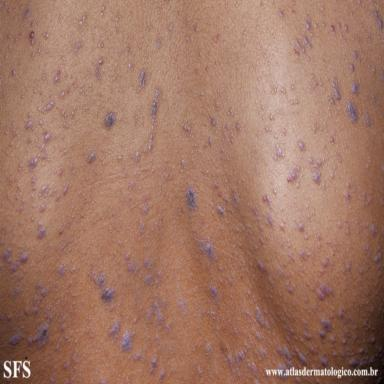lichen: (28, 304, 53, 348), (29, 133, 50, 170), (149, 88, 161, 150), (11, 252, 29, 272), (199, 240, 216, 260), (256, 307, 270, 329), (9, 326, 25, 345), (287, 165, 300, 188), (277, 347, 292, 366), (317, 283, 333, 300), (253, 206, 263, 232), (186, 187, 197, 210), (154, 295, 163, 323), (121, 332, 134, 351), (347, 102, 358, 123), (91, 271, 105, 287), (39, 185, 57, 197), (247, 359, 258, 378), (313, 160, 322, 183), (361, 191, 373, 208), (332, 78, 341, 100), (101, 288, 114, 303), (109, 321, 120, 338), (284, 325, 295, 342), (295, 349, 307, 364), (210, 286, 221, 302), (33, 296, 42, 315), (303, 321, 312, 340), (374, 10, 383, 29), (235, 351, 245, 368), (95, 59, 103, 80), (312, 121, 327, 132), (105, 113, 115, 128), (295, 38, 305, 53), (37, 223, 46, 239), (178, 298, 187, 314), (23, 2, 31, 19), (275, 144, 283, 160), (322, 318, 331, 332), (3, 247, 11, 262), (310, 74, 318, 89), (43, 101, 54, 111), (150, 358, 157, 373), (59, 263, 67, 276), (263, 195, 271, 208), (338, 312, 347, 323), (253, 330, 262, 341), (286, 280, 293, 294), (227, 354, 235, 366), (276, 265, 284, 277), (304, 35, 311, 48), (139, 70, 145, 85), (74, 42, 83, 52), (61, 88, 70, 98), (374, 252, 382, 263), (306, 13, 311, 30), (233, 191, 238, 208), (29, 30, 35, 44), (205, 343, 212, 355), (266, 214, 273, 226), (19, 199, 25, 213), (144, 273, 152, 283), (297, 222, 305, 232), (353, 82, 359, 95), (88, 152, 95, 163), (55, 339, 62, 350), (260, 348, 267, 359), (12, 287, 20, 296), (55, 70, 61, 82), (183, 124, 191, 133), (365, 114, 371, 126), (345, 217, 349, 235), (320, 358, 328, 367), (349, 359, 358, 367), (25, 119, 32, 129), (144, 259, 151, 269), (72, 349, 77, 363), (356, 219, 361, 233), (17, 183, 21, 200), (41, 288, 48, 297), (328, 96, 335, 105), (127, 263, 134, 272), (63, 361, 70, 370), (217, 206, 224, 215), (127, 181, 134, 190), (146, 311, 152, 321), (210, 309, 216, 319), (371, 226, 377, 236), (300, 250, 306, 260), (136, 283, 139, 303), (337, 217, 342, 228), (140, 222, 145, 233), (70, 163, 75, 174), (79, 16, 85, 25), (299, 142, 305, 151), (353, 51, 359, 60), (363, 244, 369, 253), (330, 335, 336, 344), (289, 251, 295, 260), (215, 101, 220, 111), (160, 370, 165, 380), (345, 190, 350, 200), (258, 261, 263, 271), (43, 47, 53, 52), (309, 347, 316, 354), (227, 108, 233, 116), (235, 123, 241, 131), (349, 63, 355, 71), (291, 99, 299, 105), (60, 324, 66, 332), (135, 353, 141, 361), (197, 367, 203, 375), (245, 342, 251, 350), (319, 331, 325, 339), (245, 309, 251, 317), (36, 281, 41, 290), (31, 175, 36, 184), (143, 204, 148, 213), (228, 277, 233, 286), (323, 258, 328, 267), (42, 71, 47, 80), (347, 260, 351, 271), (61, 110, 67, 117), (186, 36, 193, 42), (265, 126, 271, 133), (125, 253, 131, 260), (41, 153, 47, 160), (42, 33, 49, 39), (24, 307, 29, 315), (41, 204, 46, 212), (229, 133, 233, 143), (331, 25, 335, 35), (371, 336, 376, 344), (157, 270, 162, 278), (135, 152, 139, 162), (162, 300, 167, 308), (259, 236, 264, 244), (157, 39, 161, 48), (155, 335, 161, 341), (279, 10, 283, 19), (101, 6, 105, 15), (345, 330, 350, 337), (224, 196, 229, 203), (281, 87, 286, 94), (63, 121, 68, 128), (211, 118, 215, 126), (165, 324, 169, 332), (19, 163, 23, 171), (55, 195, 60, 201), (98, 42, 103, 48), (128, 63, 133, 69), (269, 115, 275, 120), (330, 313, 335, 319), (342, 339, 347, 345), (11, 69, 16, 75), (63, 187, 67, 194), (217, 34, 221, 41), (330, 136, 334, 143), (133, 317, 137, 324), (346, 181, 350, 188), (353, 335, 357, 342), (280, 223, 284, 230), (59, 228, 63, 235), (126, 45, 130, 52), (209, 137, 212, 146), (254, 243, 257, 252), (79, 88, 84, 93), (109, 306, 114, 311), (7, 315, 11, 321), (223, 131, 227, 137), (373, 95, 377, 101), (344, 25, 348, 31), (145, 334, 149, 340), (243, 347, 247, 353), (359, 269, 363, 275), (59, 169, 63, 175), (43, 129, 47, 135), (39, 119, 43, 125), (283, 127, 286, 134), (169, 25, 173, 30), (194, 26, 198, 31), (181, 160, 185, 165), (337, 23, 341, 28), (365, 259, 369, 264), (31, 52, 35, 57), (33, 185, 36, 191), (373, 67, 376, 73), (119, 154, 122, 160), (7, 34, 11, 38), (199, 52, 202, 57), (226, 124, 229, 129), (368, 252, 371, 257), (377, 245, 380, 250), (289, 203, 292, 207), (34, 89, 37, 93), (310, 159, 313, 162), (8, 45, 11, 48), (29, 113, 31, 117), (81, 213, 83, 217), (275, 135, 277, 138), (39, 108, 41, 110)
